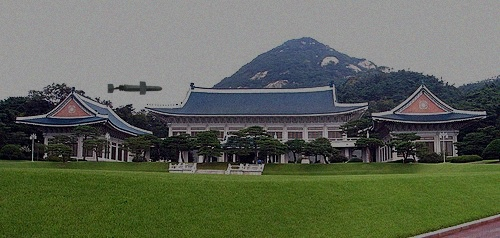shahed: (106, 79, 163, 95)
